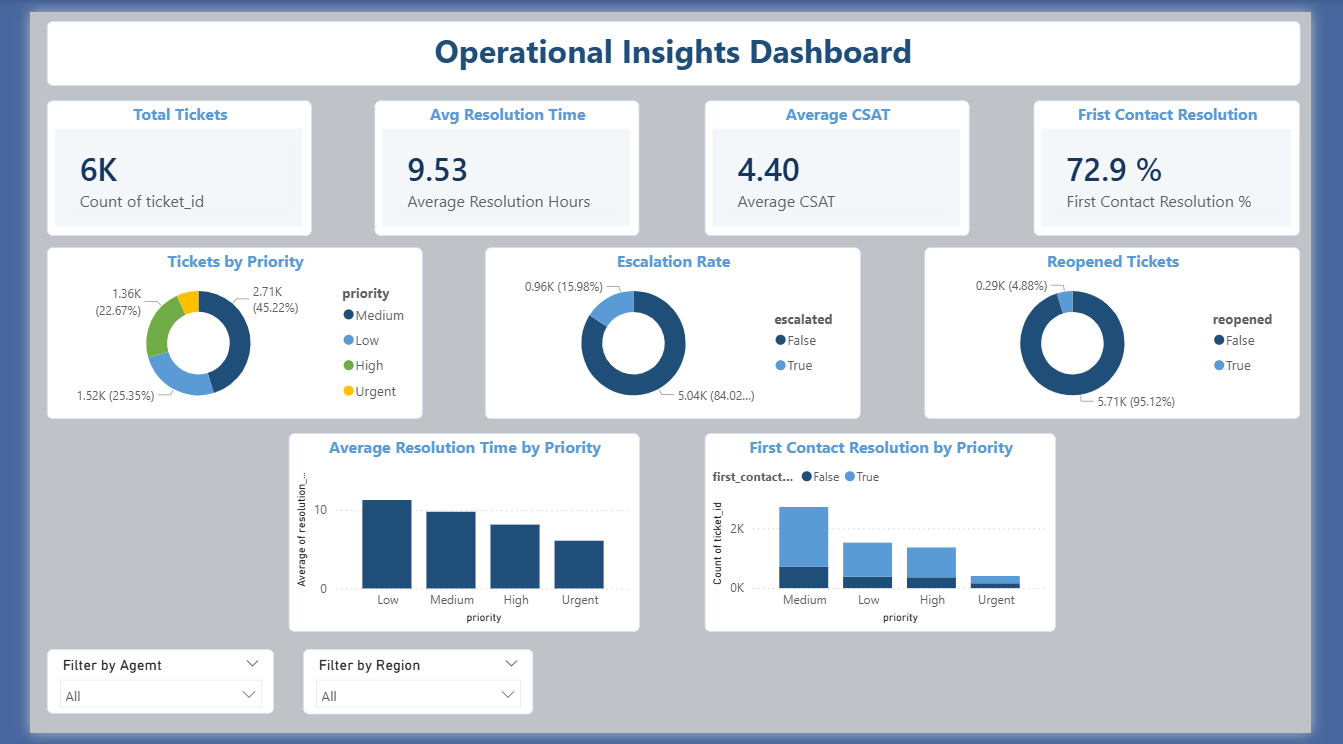

The dashboard page shown, as its layout file describes it:
{"tool":"powerbi","page":{"name":"Operational Insights","canvas":[1280,720],"ordinal":3},"visuals":[{"type":"textbox","box":[16.9,9.1,1251.9,64.9],"z":0},{"type":"donutChart","title":"Tickets by Priority","fields":{"Category":["Fact_SupportTickets.priority"],"Y":["CountNonNull(Fact_SupportTickets.ticket_id)"]},"box":[16.9,235.1,375.3,171.4],"z":1000},{"type":"cardVisual","title":"Total Tickets","fields":{"Data":["CountNonNull(Fact_SupportTickets.ticket_id)"]},"box":[16.9,88.3,264.9,135.1],"z":2000},{"type":"cardVisual","title":"Avg Resolution Time","fields":{"Data":["Fact_SupportTickets.Average Resolution Hours"]},"box":[344.2,88.3,264.9,135.1],"z":3000},{"type":"cardVisual","title":"Average CSAT","fields":{"Data":["Fact_SupportTickets.Average CSAT"]},"box":[674,88.3,264.9,135.1],"z":4000},{"type":"cardVisual","title":"Frist Contact Resolution","fields":{"Data":["Fact_SupportTickets.First Contact Resolution %"]},"box":[1002.6,88.3,266.2,135.1],"z":5000},{"type":"donutChart","title":"Escalation Rate","fields":{"Category":["Fact_SupportTickets.escalated"],"Y":["CountNonNull(Fact_SupportTickets.ticket_id)"]},"box":[454.5,235.1,375.3,171.4],"z":6000},{"type":"donutChart","title":"Reopened Tickets","fields":{"Category":["Fact_SupportTickets.reopened"],"Y":["CountNonNull(Fact_SupportTickets.ticket_id)"]},"box":[893.5,235.1,375.3,171.4],"z":7000},{"type":"clusteredColumnChart","title":"Average Resolution Time by Priority","fields":{"Category":["Fact_SupportTickets.priority"],"Y":["Avg(Fact_SupportTickets.resolution_hours)"]},"box":[258.4,420.8,350.6,198.7],"z":8000},{"type":"columnChart","title":"First Contact Resolution by Priority","fields":{"Category":["Fact_SupportTickets.priority"],"Series":["Fact_SupportTickets.first_contact_resolution"],"Y":["CountNonNull(Fact_SupportTickets.ticket_id)"]},"box":[674,420.8,350.6,198.7],"z":9000},{"type":"slicer","fields":{"Values":["Fact_SupportTickets.agent_name"]},"box":[16.9,636.4,227.3,64.9],"z":10000},{"type":"slicer","fields":{"Values":["Fact_SupportTickets.region"]},"box":[272.7,636.7,230.2,65],"z":11000}]}

Visuals, with their boxes in screenshot pixels (x1, y1, x2, y2), scaled from the page's 1280x720 canvas onto the 1343x744 screenshot:
textbox: bbox=[18, 9, 1331, 76]
"Tickets by Priority" donutChart: bbox=[18, 243, 412, 420]
"Total Tickets" cardVisual: bbox=[18, 91, 296, 231]
"Avg Resolution Time" cardVisual: bbox=[361, 91, 639, 231]
"Average CSAT" cardVisual: bbox=[707, 91, 985, 231]
"Frist Contact Resolution" cardVisual: bbox=[1052, 91, 1331, 231]
"Escalation Rate" donutChart: bbox=[477, 243, 871, 420]
"Reopened Tickets" donutChart: bbox=[937, 243, 1331, 420]
"Average Resolution Time by Priority" clusteredColumnChart: bbox=[271, 435, 639, 640]
"First Contact Resolution by Priority" columnChart: bbox=[707, 435, 1075, 640]
slicer - Fact_SupportTickets.agent_name: bbox=[18, 658, 256, 725]
slicer - Fact_SupportTickets.region: bbox=[286, 658, 528, 725]
